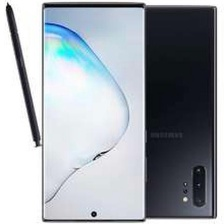phone: (37, 0, 148, 224), (110, 2, 218, 222)
